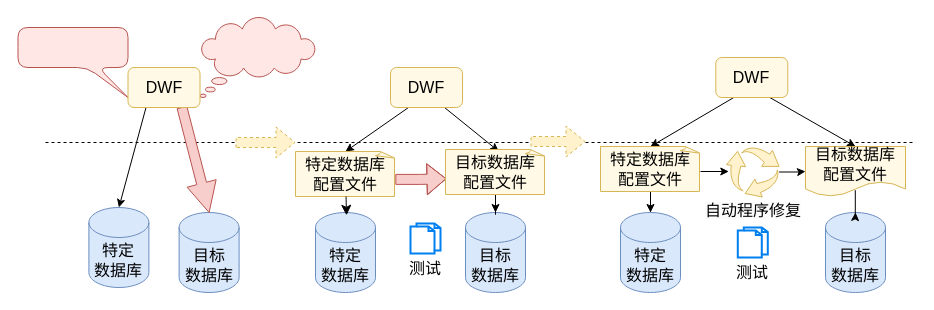
The diagram is 934 pixels wide and 310 high, and some of its shapes have lost their labels. The box of each missing label's shape, as (x1, y1, x2, y2) in pixels:
数据库 安全性问题: (199, 16, 316, 98)
数据库国产化 要求: (17, 26, 128, 98)
